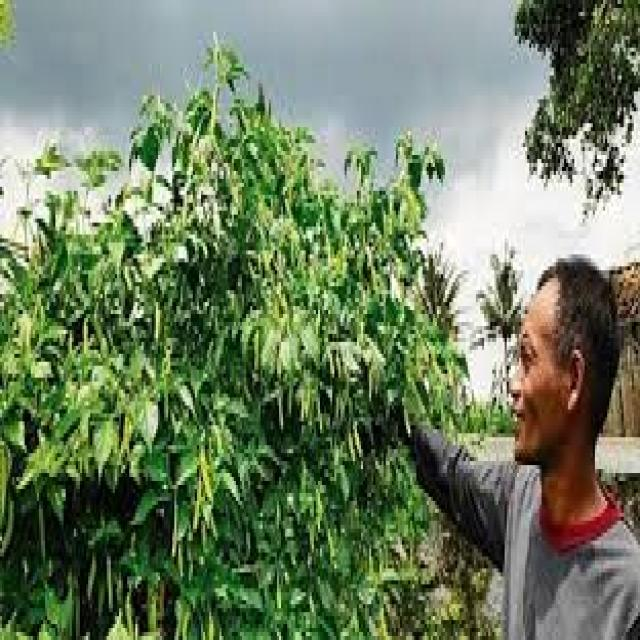Mosaic_virus: (0, 155, 423, 640)
